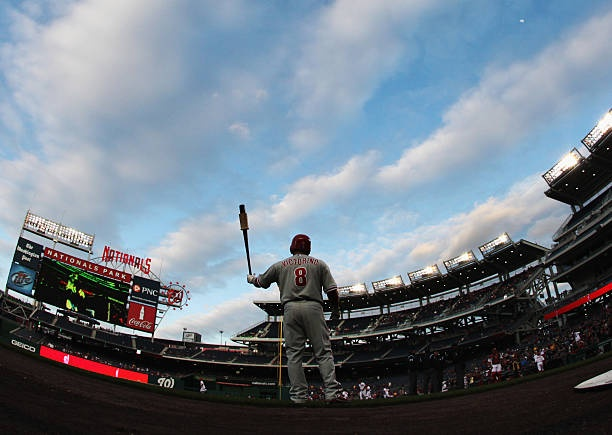bita: (237, 204, 257, 278)
